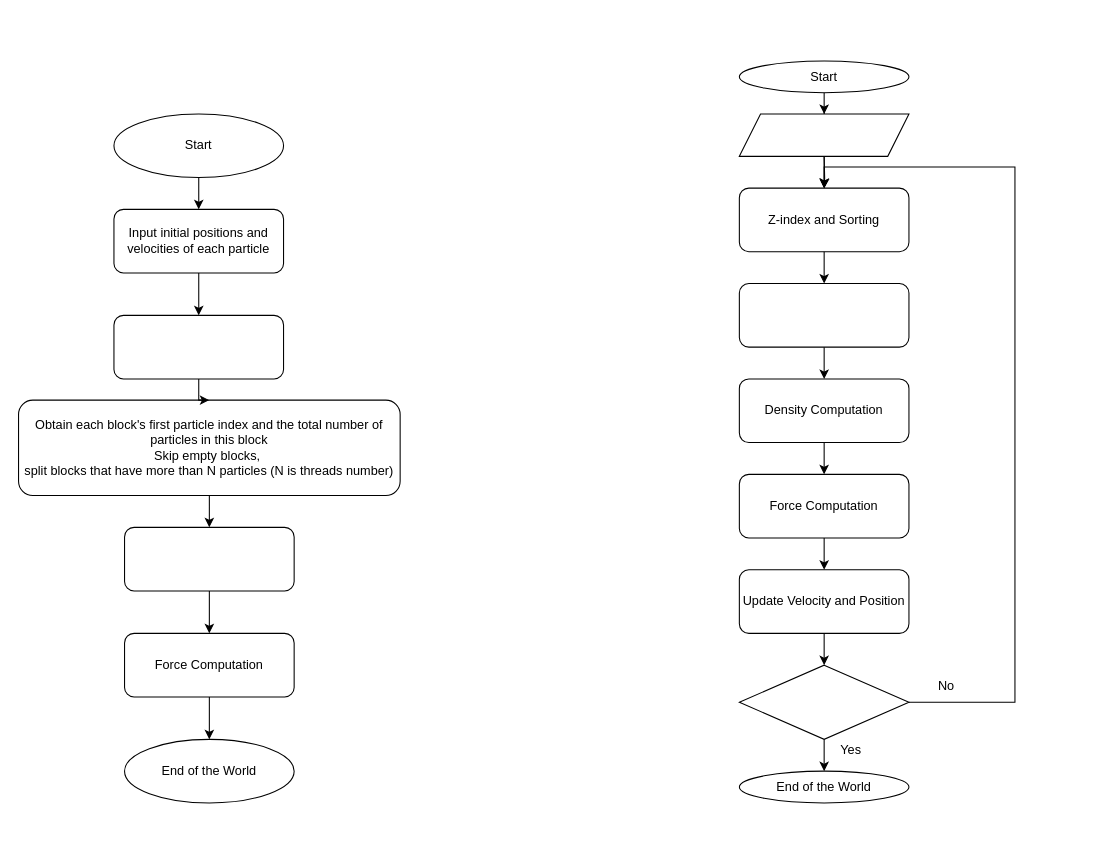
The diagram is 1097 pixels wide and 852 high, and some of its shapes have lost their labels. The centre of each missing label's shape, as x and y in pixels:
"Blocks Generation" goes at (823,314).
"Density Computation ( to obtain the momentum)" goes at (208,558).
"End of the world? Or terminated?" goes at (823,701).
"Initialize Particles" goes at (823,134).
"Using Z-index to index particles" goes at (198,346).
